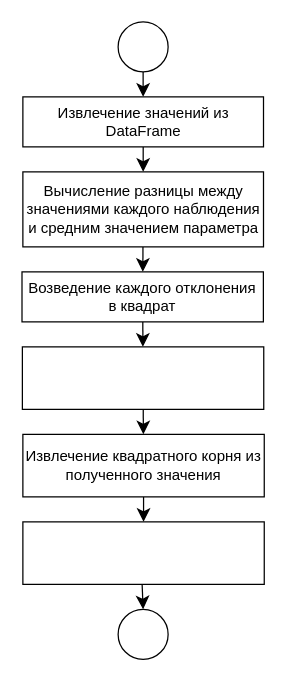
The diagram is 286 pixels wide and 681 high, and some of its shapes have lost their labels. Each missing label, with the box of its shape:
Деление суммы квадратов отклонений на количество наблюдений: (21, 346, 264, 409)
Получение результирующего значения за заданный период: (22, 521, 264, 584)
